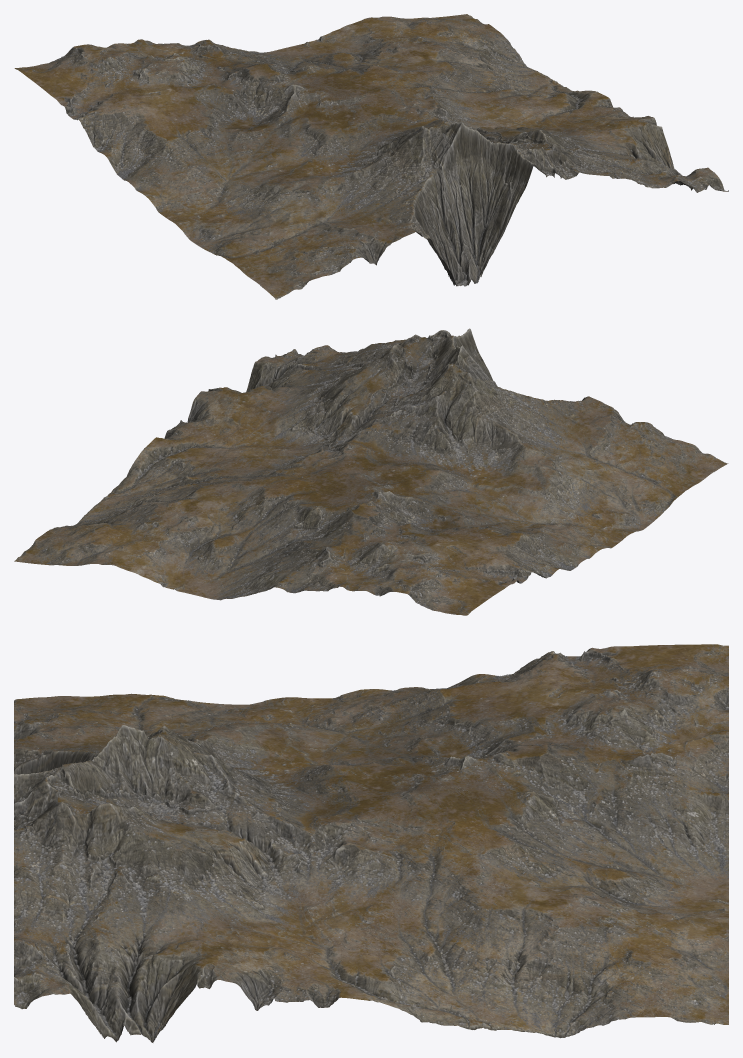
File: rough_mountaintop_landscape.glb
The picture shows the model from 3 angles, top to bottom: view 1: azimuth 30°, elevation 25°; view 2: azimuth 150°, elevation 25°; view 3: azimuth 270°, elevation 25°; orthographic projection. The views are drawn at different scales.
Visible parts, largest first — view 1: Mesh_DefaultMaterial_0 (×6); view 2: Mesh_DefaultMaterial_0 (×6); view 3: Mesh_DefaultMaterial_0 (×6).
Part boxes in pixels (left/top/right/bottom): Mesh_DefaultMaterial_0 (×6): left=14, top=14, right=728, bottom=299; Mesh_DefaultMaterial_0 (×6): left=14, top=328, right=728, bottom=615; Mesh_DefaultMaterial_0 (×6): left=14, top=644, right=728, bottom=1042.
Size of the model in its own units: 49.99 by 13.24 by 49.99.
1 material, 1 textured.
